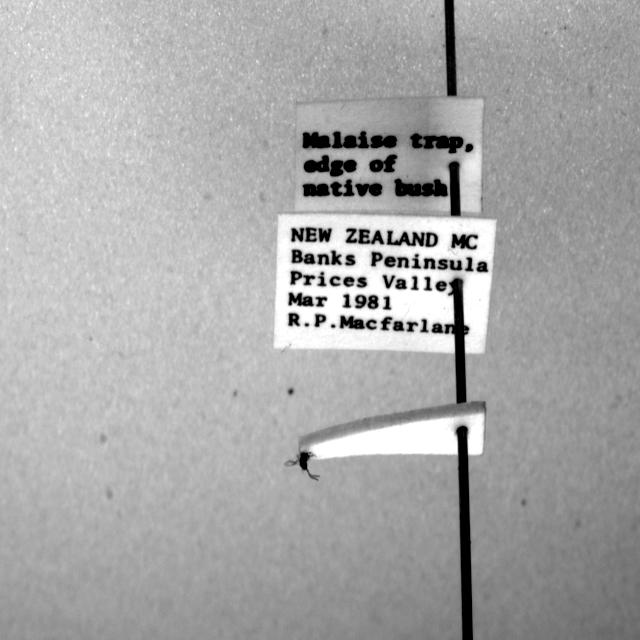typed_label: (274, 214, 496, 352), (295, 96, 484, 214)
